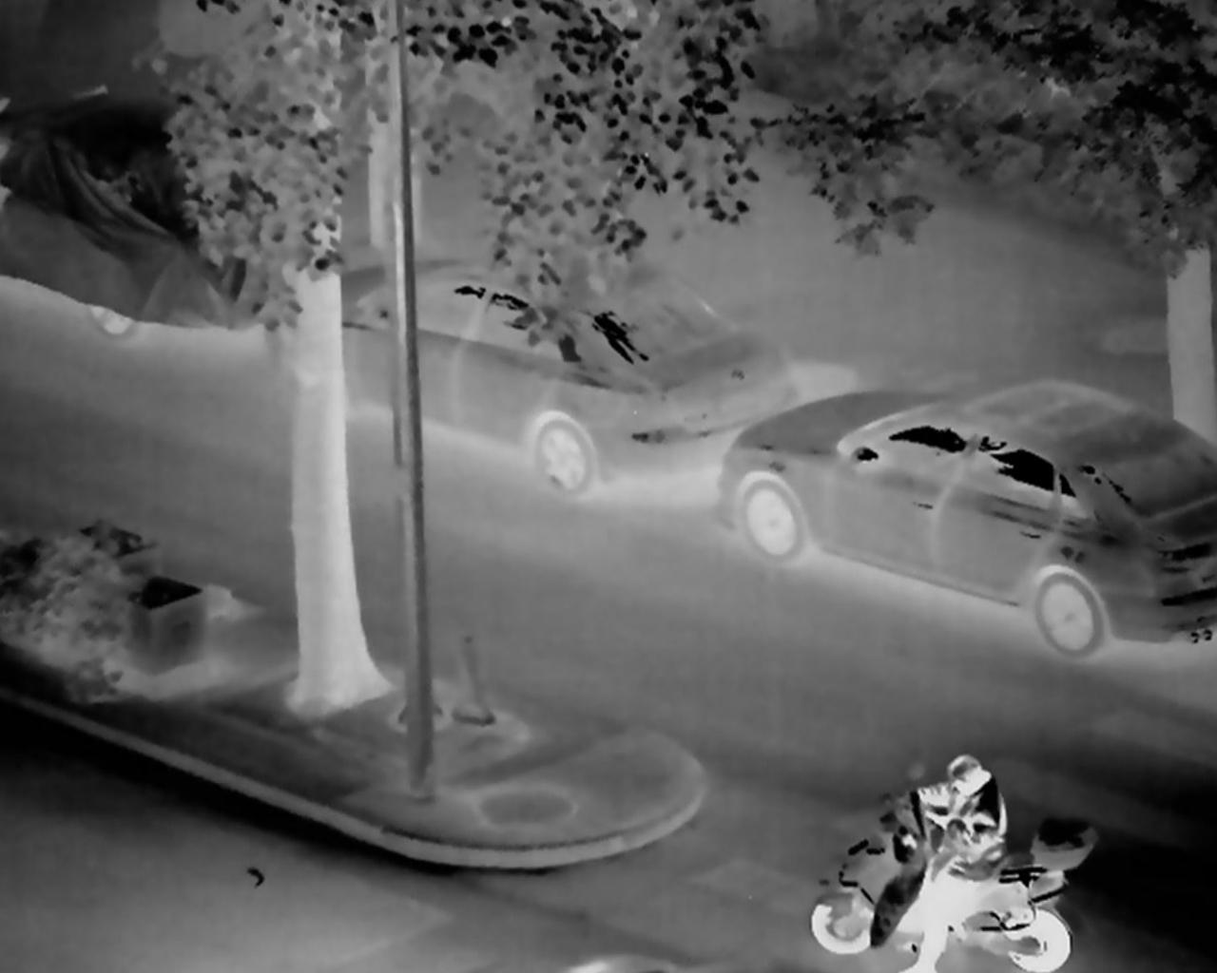person: (912, 753, 1027, 973)
